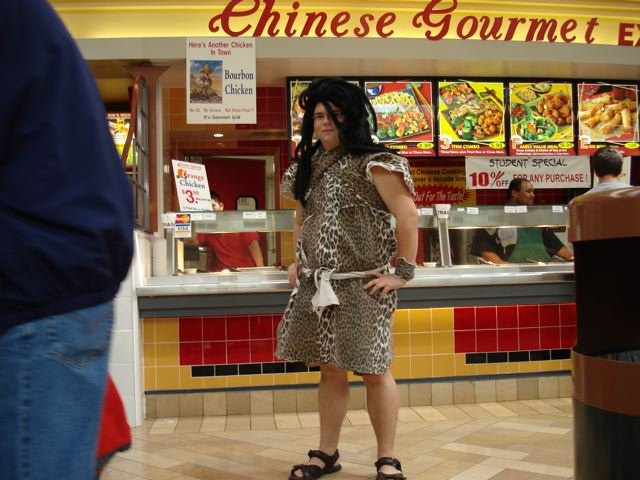Age_20_30: (307, 88, 381, 157), (515, 178, 543, 209)
E_Black: (515, 178, 543, 209)
E_White: (307, 88, 381, 157)
Emotion_Happy: (307, 88, 381, 157)
Emotion_Sad: (515, 178, 543, 209)
G_ Female: (307, 88, 381, 157)
G_Male: (515, 178, 543, 209)
Not_Face: (597, 148, 625, 180), (206, 192, 229, 217)
